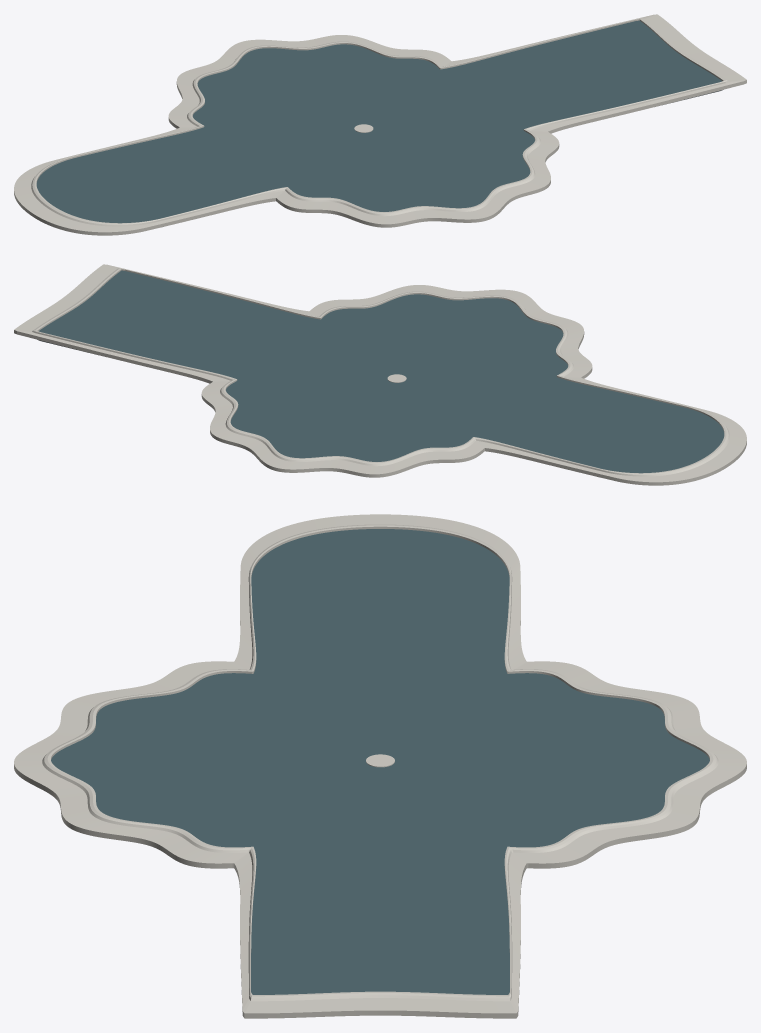
File: sy-fountain-basin.glb
3 renders of one model, top to bottom at view 1: azimuth 30°, elevation 25°; view 2: azimuth 150°, elevation 25°; view 3: azimuth 270°, elevation 25°, orthographic. The views are drawn at different scales.
Visible parts, largest first — view 1: WaterDisc, Basin; view 2: WaterDisc, Basin; view 3: WaterDisc, Basin.
Boxes of the visible parts, x1=… form: WaterDisc: x1=36, y1=20, x2=721, y2=223; Basin: x1=14, y1=14, x2=746, y2=235; WaterDisc: x1=39, y1=270, x2=724, y2=473; Basin: x1=14, y1=264, x2=746, y2=485; WaterDisc: x1=51, y1=529, x2=709, y2=994; Basin: x1=14, y1=514, x2=746, y2=1018.
Bounding box in the file's own units: 146 × 1.91 × 90.92.
